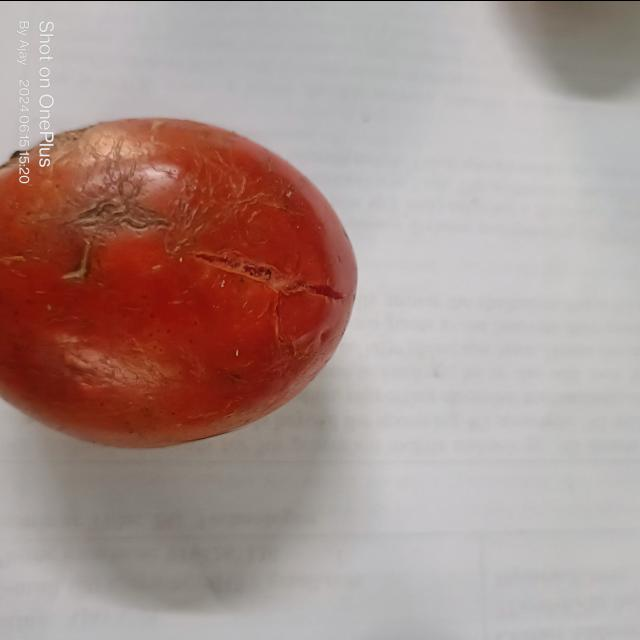tomato_cracking: (183, 222, 364, 322), (55, 165, 187, 286)
